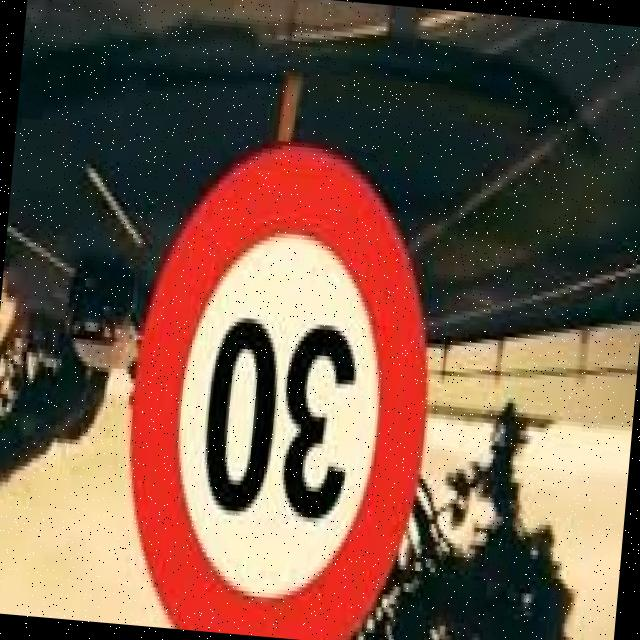speed_limit_30: (107, 129, 456, 640)
